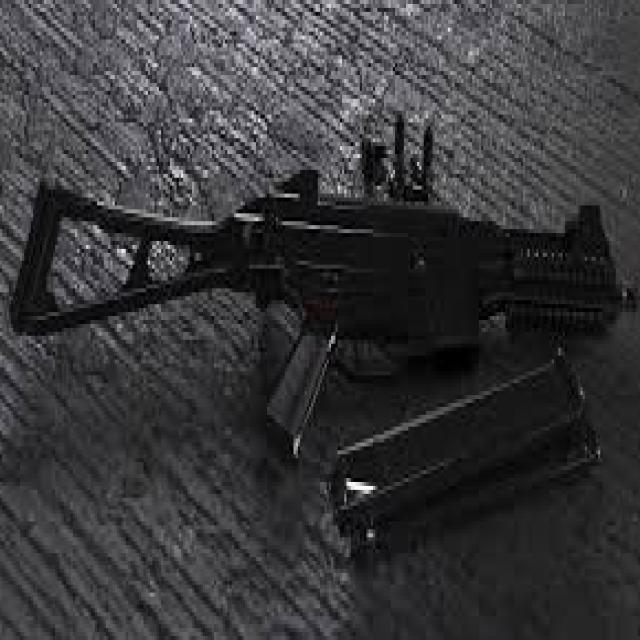Gun: (11, 137, 605, 430)
